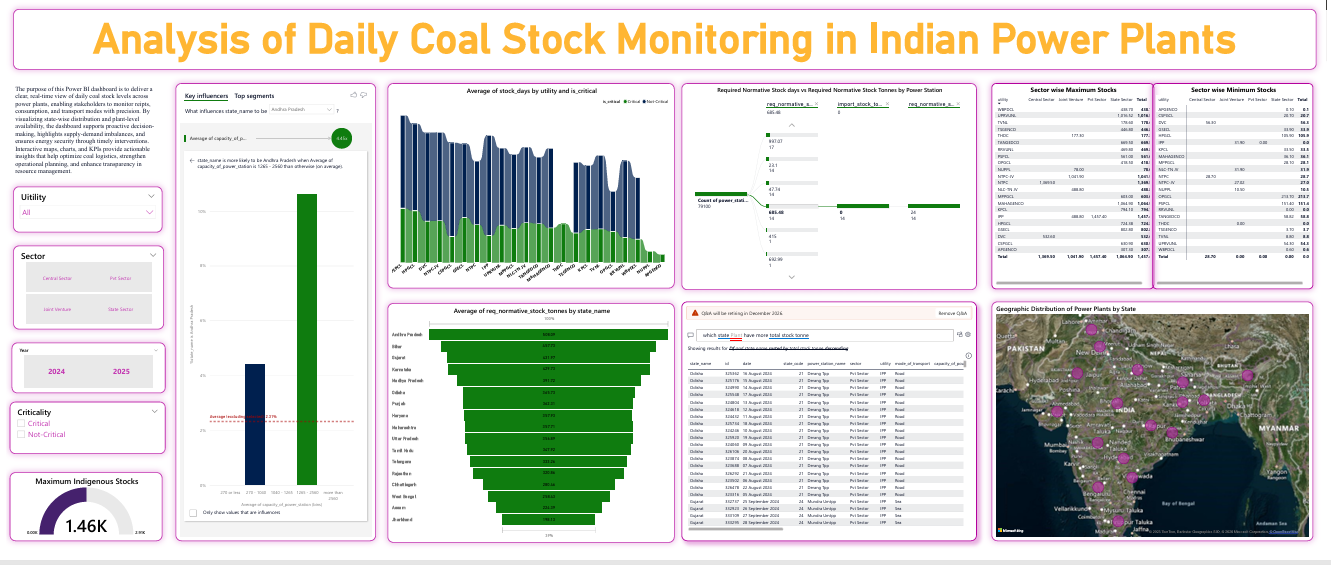

Layout of this report page (visuals, bound fields, positions):
{"tool":"powerbi","page":{"name":"Dashboard 2","canvas":[3350,1400],"ordinal":1},"visuals":[{"type":"pivotTable","title":"Sector wise Maximum Stocks ","fields":{"Rows":["df.utility"],"Columns":["df.sector"],"Values":["Max(df.total_stock_tonnes)"]},"box":[2500,216.7,412.6,523.3],"z":0,"group":"g1"},{"type":"slicer","fields":{"Values":["df.sector"]},"box":[16.7,629.2,383.3,212.5],"z":0},{"type":"pivotTable","title":"Sector wise Minimum Stocks ","fields":{"Rows":["df.utility"],"Columns":["df.sector"],"Values":["Min(df.total_stock_tonnes)"]},"box":[2908.3,216.7,408.3,523.3],"z":1000,"group":"g1"},{"type":"slicer","fields":{"Values":["df.utility"]},"box":[16.7,479.2,379.2,116.7],"z":1000},{"type":"textbox","box":[16.7,216.7,383.3,291.7],"z":2000},{"type":"keyDriversVisual","fields":{"Target":["df.state_name"],"ExplainBy":["Avg(df.capacity_of_power_station)"]},"box":[429.2,216.7,508.3,1162.5],"z":3000},{"type":"slicer","fields":{"Values":["df.is_critical"]},"box":[8.3,1025,395.8,133.3],"z":4000},{"type":"decompositionTreeVisual","title":"Required Normative Stock days vs  Required Normative Stock Tonnes by Power Station","fields":{"Analyze":["CountNonNull(df.power_station_name)"],"ExplainBy":["df.req_normative_stock_tonnes","df.import_stock_tonnes","df.req_normative_stock_days"]},"box":[1712.5,216.7,750,525],"z":5000},{"type":"ribbonChart","fields":{"Category":["df.utility"],"Y":["Avg(df.stock_days)"],"Series":["df.is_critical"]},"box":[966.7,216.7,729.2,520.8],"z":6000},{"type":"funnel","fields":{"Category":["df.state_name"],"Y":["Avg(df.req_normative_stock_tonnes)"]},"box":[966.7,775,729.2,608.3],"z":7000},{"type":"qnaVisual","box":[1712.5,770.8,750,608.3],"z":8000},{"type":"group","id":"g1","title":"Group 1","box":[2500,216.7,816.7,520.8],"z":9000},{"type":"gauge","title":"Maximum Indigenous Stocks","fields":{"Y":["Max(df.indigenous_stock_tonnes)"]},"box":[8.3,1204.2,387.5,175],"z":10000},{"type":"map","title":"Geographic Distribution of Power Plants by State","fields":{"Category":["df.state_name"]},"box":[2500,770.8,816.7,608.3],"z":11000},{"type":"textbox","box":[16.7,29.2,3308.3,154.2],"z":12000},{"type":"slicer","fields":{"Values":["Calendar.Year"]},"box":[12.5,875,391.7,129.2],"z":13000}]}

Visuals, with their boxes in screenshot pixels (x1, y1, x2, y2), scaled from the page's 3350x1400 canvas onto the 1331x565 screenshot:
"Sector wise Maximum Stocks " pivotTable: 993:87:1157:299
slicer - df.sector: 7:254:159:340
"Sector wise Minimum Stocks " pivotTable: 1156:87:1318:299
slicer - df.utility: 7:193:157:240
textbox: 7:87:159:205
keyDriversVisual - df.state_name x Avg(df.capacity_of_power_station): 171:87:372:557
slicer - df.is_critical: 3:414:161:467
"Required Normative Stock days vs  Required Normative Stock Tonnes by Power Station" decompositionTreeVisual: 680:87:978:299
ribbonChart - df.utility x Avg(df.stock_days): 384:87:674:298
funnel - df.state_name x Avg(df.req_normative_stock_tonnes): 384:313:674:558
qnaVisual: 680:311:978:557
"Group 1" group: 993:87:1318:298
"Maximum Indigenous Stocks" gauge: 3:486:157:557
"Geographic Distribution of Power Plants by State" map: 993:311:1318:557
textbox: 7:12:1321:74
slicer - Calendar.Year: 5:353:161:405
